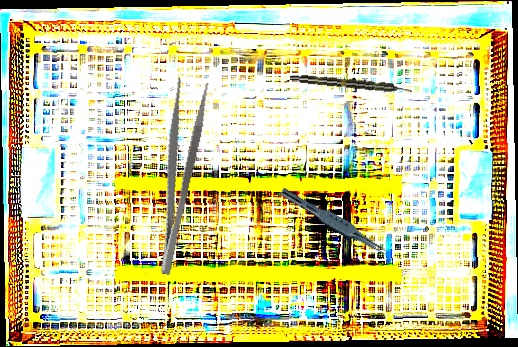Dressing Forceps: (140, 76, 212, 277)
Handpiece: (289, 72, 413, 96)
Tissue Forceps: (276, 187, 393, 259)
